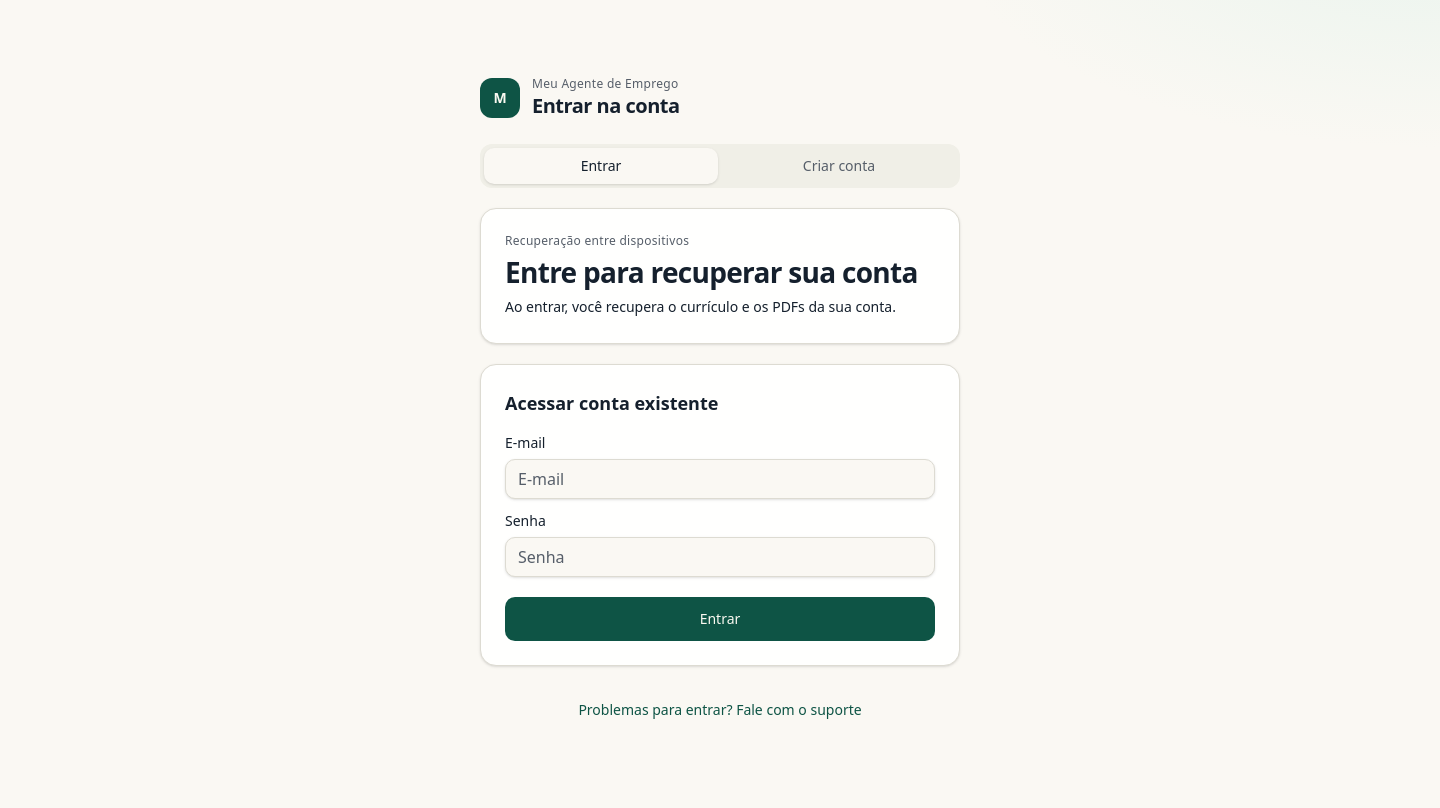
Scenario: HomePage processar + cotas › 3. generation_blocked nao mostra link de PDF
The image size is (1440, 808).
In the field with test id "login-email": point(720, 479) [505,459,935,499], type "ada@example.com"
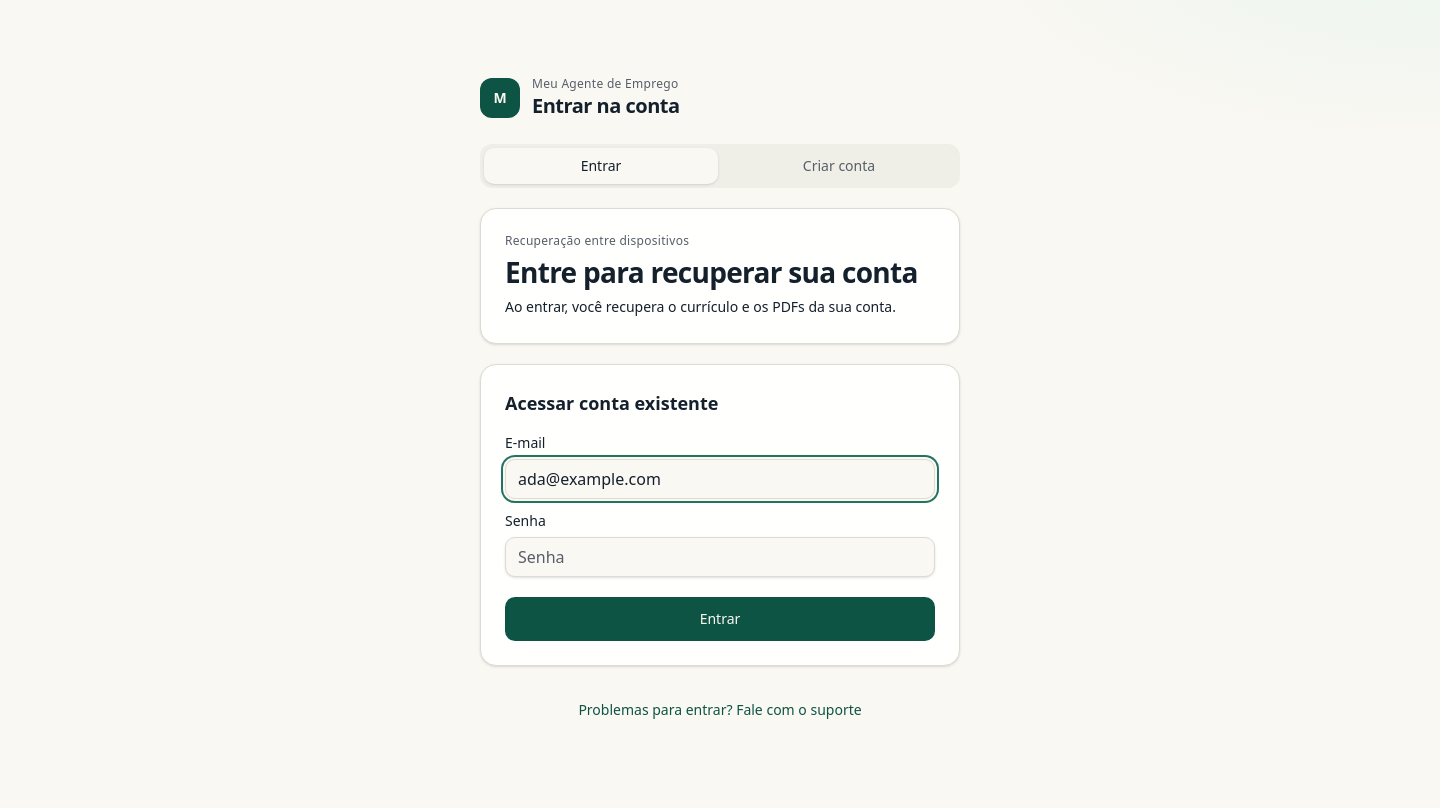
In the password field with test id "login-password": point(720, 557) [505,537,935,577], type "senha-segura"
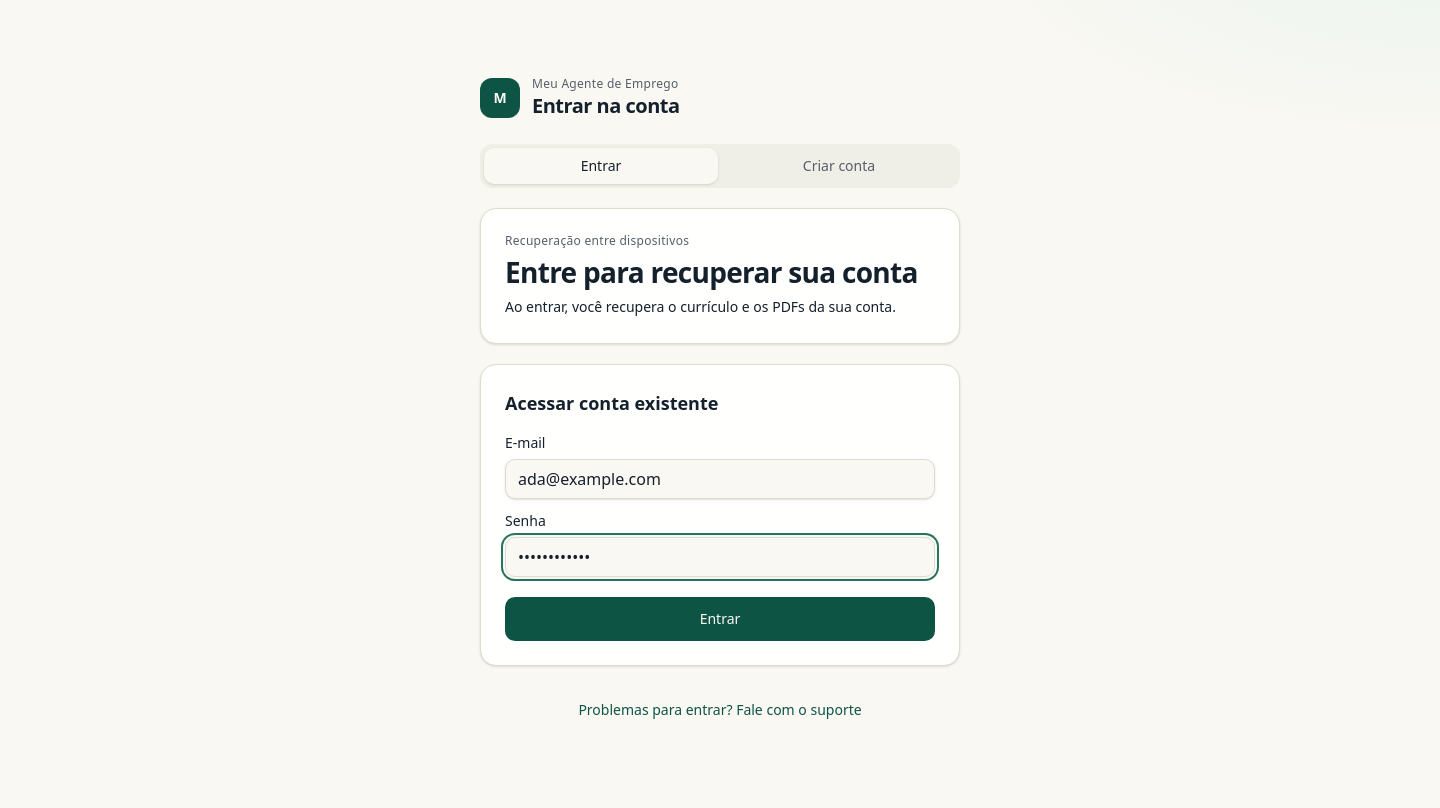
Click the button with test id "login-submit": point(720, 619) [505,597,935,641]
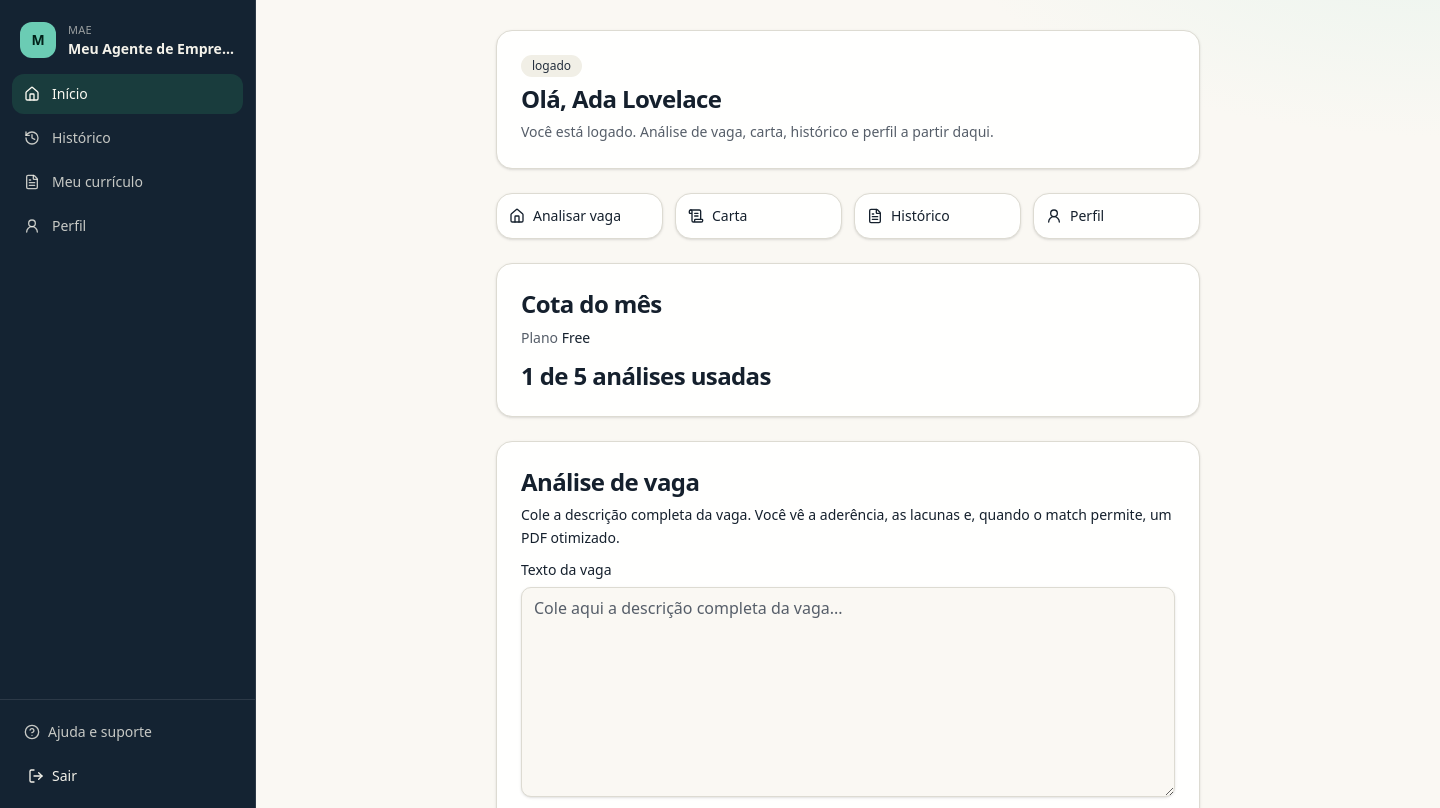
Expected: the element with test id "home-shell" is shown, [496,30,1200,169]
In the text box with test id "processar-texto": point(848, 692) [521,587,1175,797], type "Vaga para estagio com requisitos e responsabilidades."
(page scrolled)
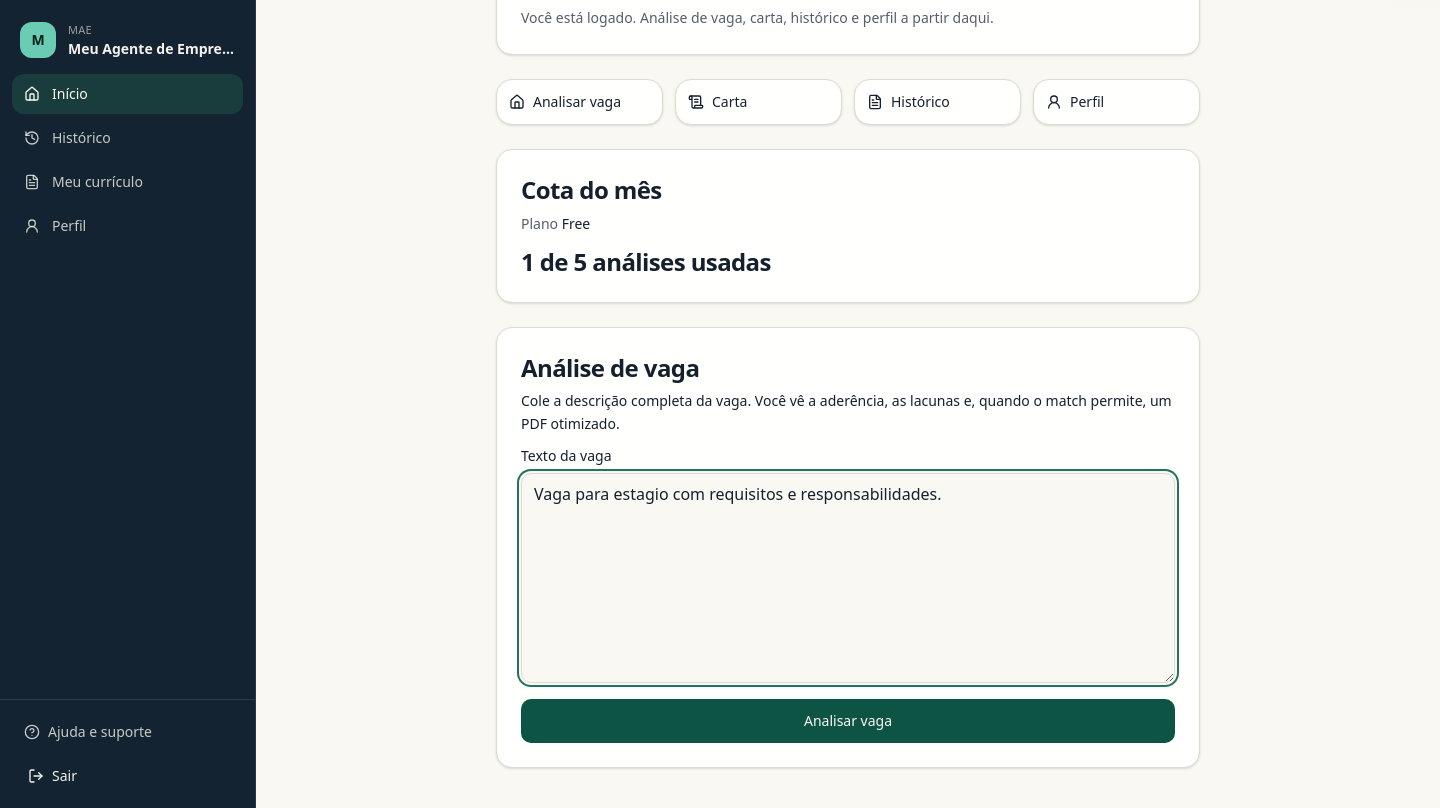
Click the button with test id "processar-submit": point(848, 721) [521,699,1175,743]
(page scrolled)
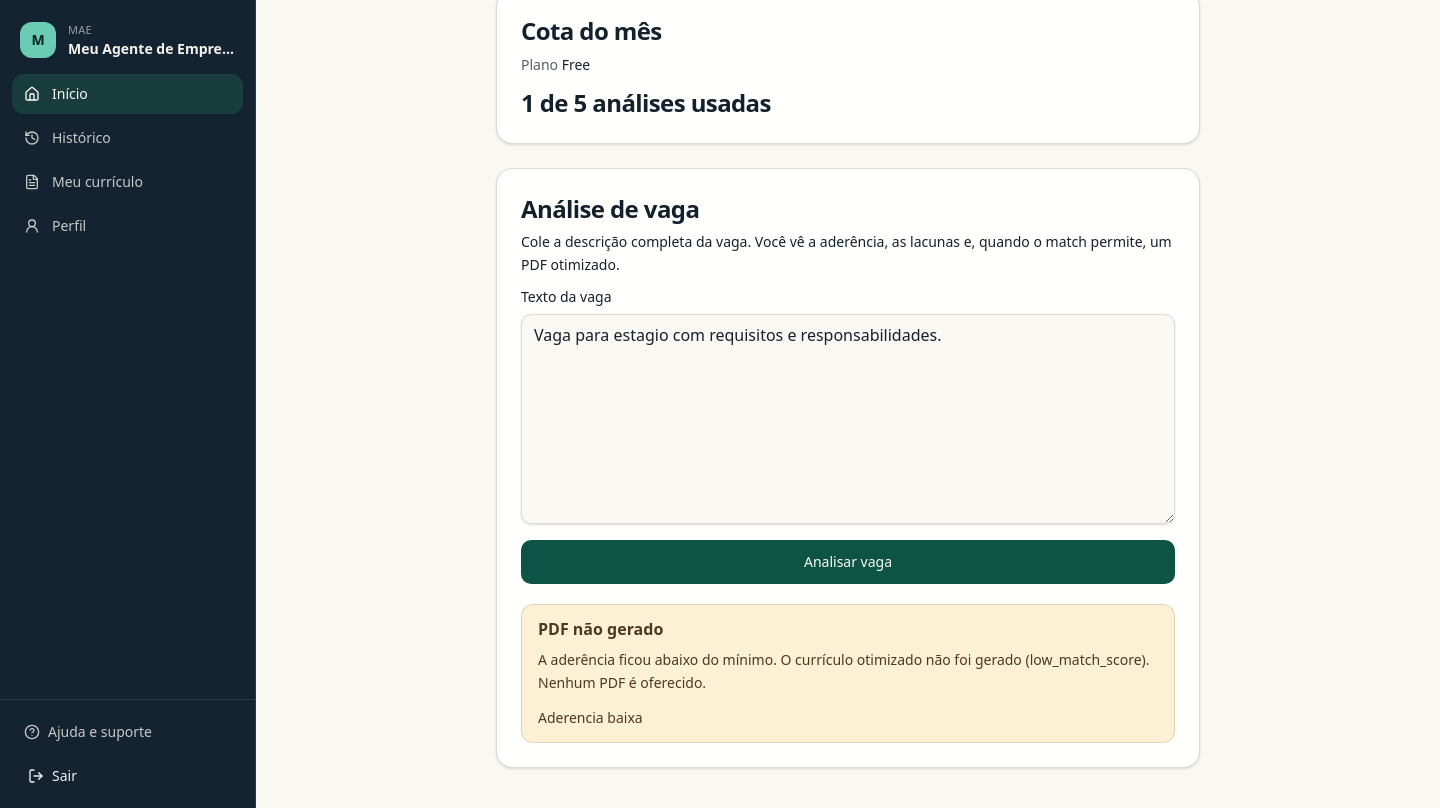
Expected: the message with test id "processar-blocked" is shown, [521,604,1175,743]
